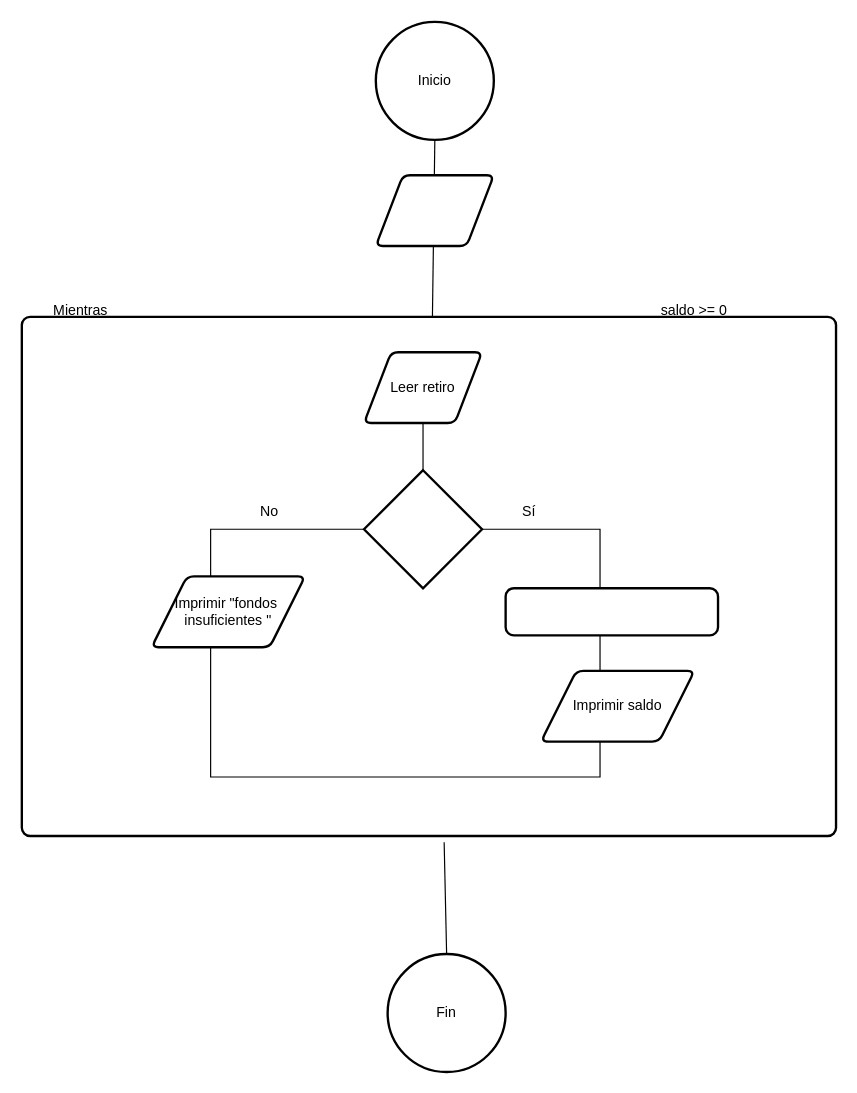
Image size: 857x1093. Some labels were removed from this diagram. Each missing label, with the centre of its shape:
"Leer saldo" belongs at point 434,210.
"retiro <= saldo" belongs at point 422,528.
"saldo = saldo - retiro" belongs at point 611,611.
